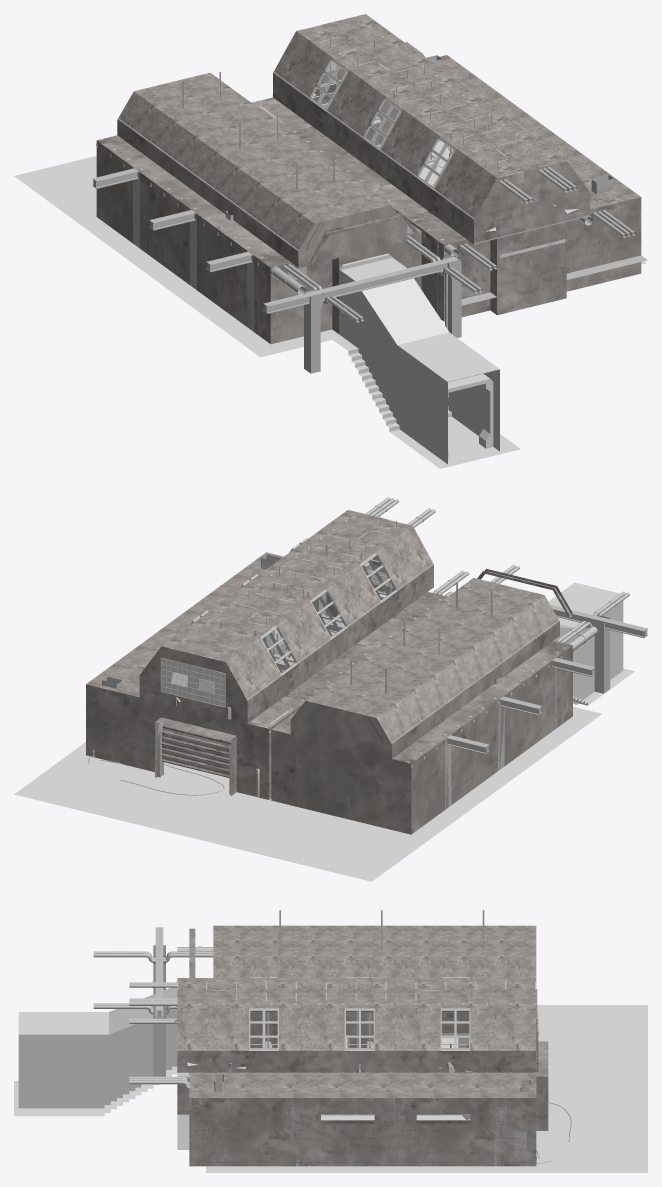
3 renders of one model, top to bottom at view 1: azimuth 30°, elevation 25°; view 2: azimuth 150°, elevation 25°; view 3: azimuth 270°, elevation 25°, orthographic. The views are drawn at different scales.
Parts seen in each view (by area): view 1: Plane.001, Plane.009, Plane.041, SM_MM_Large_Exit.006, SM_MM_Large_Walls.005, SM_MM_Large_Poles.006, SM_MM_Large_Poles.004, Plane.014, Cylinder.003, Cylinder.002, Cylinder.004, Plane.010 (+3 smaller); view 2: Plane.001, Plane.009, SM_MM_Large_Walls.005, Plane.041, SM_MM_Large_Exit.006, Cube.049, SM_MM_Large_Poles.004, Plane.032, SM_MM_Large_Poles.006, Plane.014, Cylinder.003, Cylinder.002 (+2 smaller); view 3: Plane.001, SM_MM_Large_Walls.005, Plane.041, SM_MM_Large_Exit.006, Plane.014, SM_MM_Large_Poles.001, Cylinder.003, SM_MM_Large_Poles.006, Cylinder.004, SM_MM_Large_Poles.004, Cylinder.019, Cylinder.002 (+2 smaller).
Part boxes in pixels (x1,y1,x2,y2): Plane.001: (251,14,641,321); Plane.009: (96,119,421,344); Plane.041: (117,72,390,251); SM_MM_Large_Exit.006: (339,253,499,464); SM_MM_Large_Walls.005: (14,99,646,468); SM_MM_Large_Poles.006: (133,167,461,373); SM_MM_Large_Poles.004: (92,168,458,313); Plane.014: (310,41,532,190); Cylinder.003: (283,235,482,322); Cylinder.002: (96,16,593,294); Cylinder.004: (457,209,635,270); Plane.010: (308,212,420,265); Plane.001: (86,510,447,799); Plane.009: (271,621,572,834); SM_MM_Large_Walls.005: (14,668,634,881); Plane.041: (306,578,559,743); SM_MM_Large_Exit.006: (548,582,623,704); Cube.049: (161,724,230,777); SM_MM_Large_Poles.004: (446,604,647,754); Plane.032: (161,658,225,706); SM_MM_Large_Poles.006: (445,615,610,809); Plane.014: (190,538,396,675); Cylinder.003: (490,564,629,643); Cylinder.002: (170,520,597,771); Plane.001: (177,978,548,1166); SM_MM_Large_Walls.005: (14,1004,647,1172); Plane.041: (213,925,536,977); SM_MM_Large_Exit.006: (18,987,177,1108); Plane.014: (249,977,470,1050); SM_MM_Large_Poles.001: (189,1098,506,1166); Cylinder.003: (93,951,213,1014); SM_MM_Large_Poles.006: (153,945,469,1076); Cylinder.004: (129,1018,461,1089); SM_MM_Large_Poles.004: (155,927,163,1017); Cylinder.019: (129,981,177,1006); Cylinder.002: (177,946,536,1080).
Bounding box in the file's own units: 3510 × 1621 × 5299.
